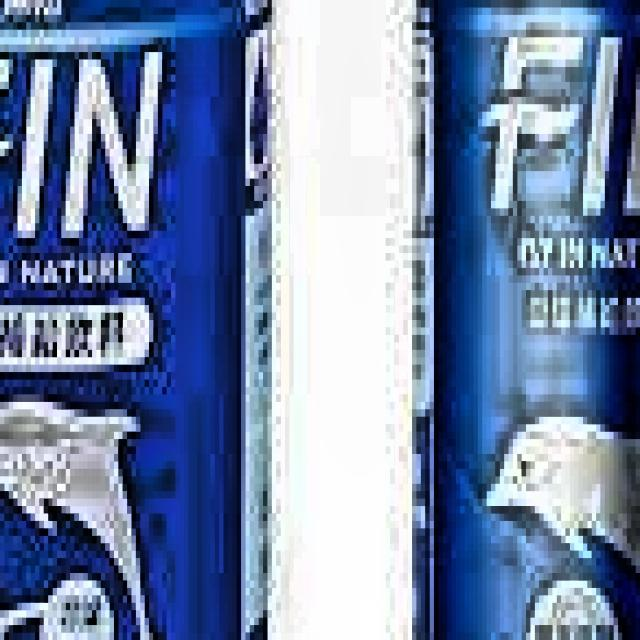metal: (0, 0, 285, 640), (403, 0, 640, 640)
